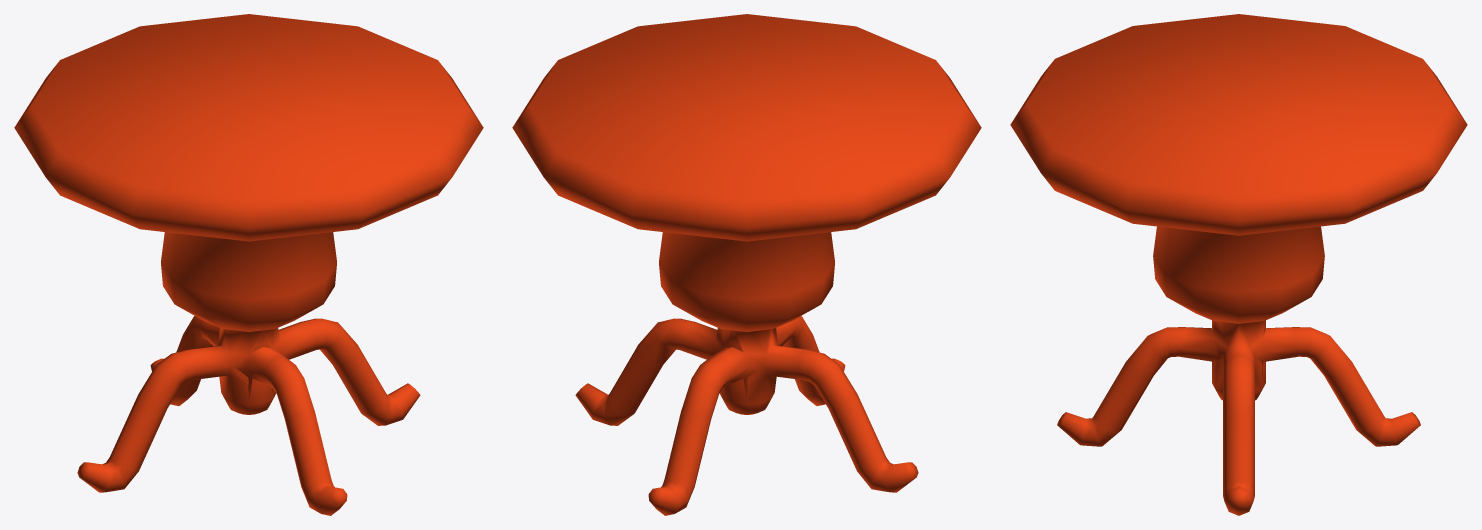
The model's file is mesinha-1.fbx.
3 renders of one model, left to right at view 1: azimuth 30°, elevation 25°; view 2: azimuth 150°, elevation 25°; view 3: azimuth 270°, elevation 25°, orthographic. The views are drawn at different scales.
Parts seen in each view (by area): view 1: Mesinha; view 2: Mesinha; view 3: Mesinha.
Part boxes in pixels (<box>): Mesinha: <box>14,14,483,515</box>; Mesinha: <box>512,14,981,515</box>; Mesinha: <box>1010,14,1467,515</box>.
Size of the model in its own units: 407 by 336 by 407.
